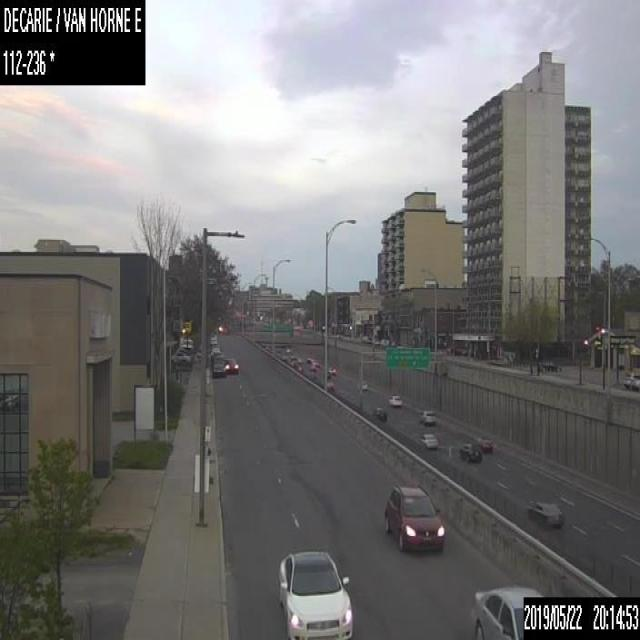vehicle: (276, 549, 353, 639), (382, 483, 444, 552), (471, 584, 541, 639), (527, 498, 564, 526), (457, 441, 481, 460), (210, 353, 226, 376), (476, 434, 493, 453), (419, 410, 436, 426), (538, 360, 560, 372), (624, 372, 639, 389), (420, 431, 437, 446), (224, 356, 238, 373), (171, 350, 189, 362), (371, 405, 385, 420), (387, 394, 401, 404), (355, 380, 367, 391), (631, 378, 639, 390)
